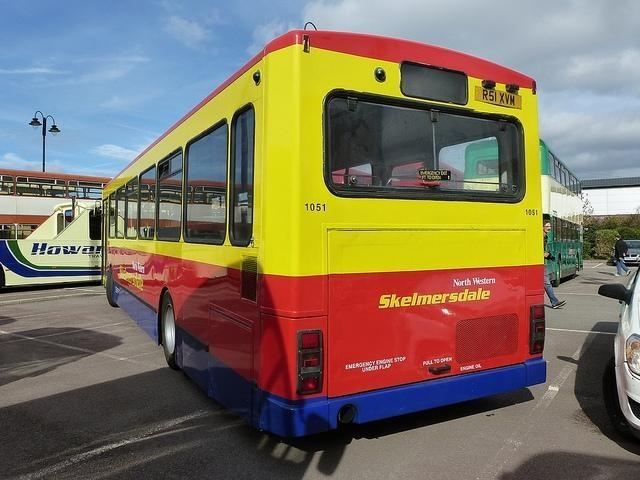bus: (97, 27, 550, 447), (0, 168, 111, 289), (542, 140, 584, 288)
car: (598, 267, 640, 438), (611, 240, 640, 265)
